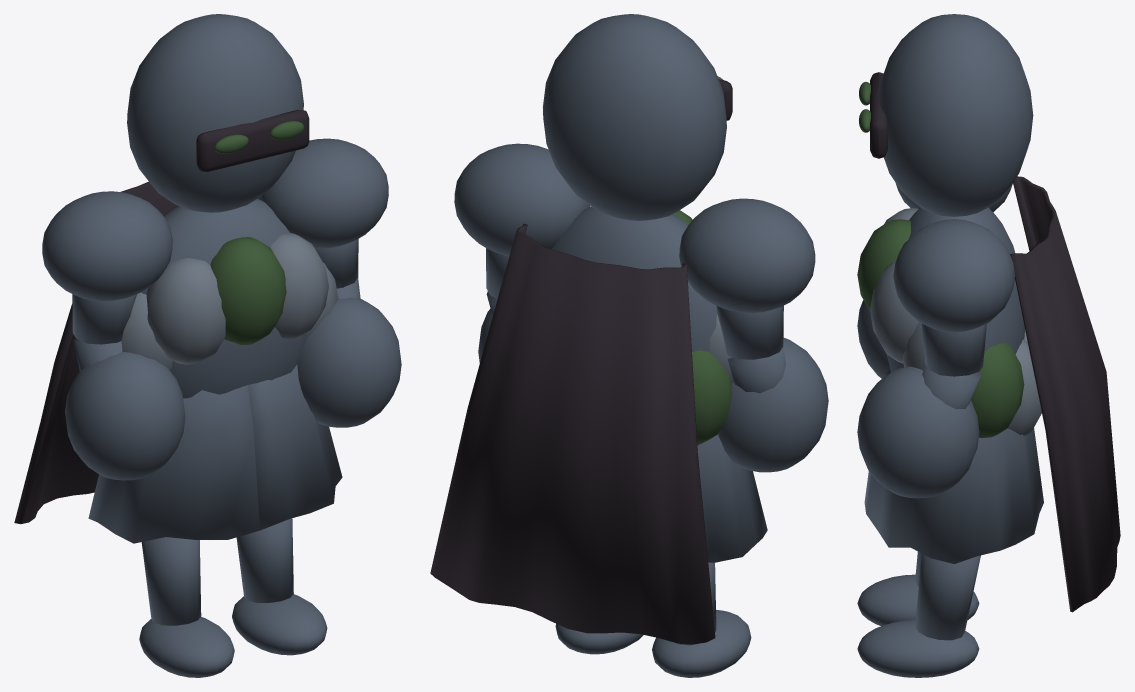
File: enemy-2-refined-v15.fbx
3 renders of one model, left to right at view 1: azimuth 30°, elevation 25°; view 2: azimuth 150°, elevation 25°; view 3: azimuth 270°, elevation 25°, orthographic. The views are drawn at different scales.
Parts seen in each view (by area): view 1: Tabard, Helmet, StoneFist, Shoulder.002, StoneFist.001, Shoulder.003, ArmoredTorso, TatteredCape, MossyArmorRock.008, MossyArmorRock, Shin.002, Foot.004 (+8 smaller); view 2: TatteredCape, Helmet, Shoulder.002, Shoulder.003, StoneFist, ArmoredTorso, Tabard, Foot.004, UpperArm.002, MossyArmorRock.006, Forearm.004, Foot.005 (+2 smaller); view 3: TatteredCape, Helmet, Tabard, StoneFist.001, Shoulder.003, Foot.005, Shin.003, MossyArmorRock.003, ArmoredTorso, UpperArm.003, MossyArmorRock.001, Foot.004 (+6 smaller).
Part boxes in pixels (box(x1,y1,x2,y2)): Tabard: box(88, 364, 342, 543); Helmet: box(127, 14, 303, 212); StoneFist: box(65, 352, 185, 480); Shoulder.002: box(42, 191, 172, 301); StoneFist.001: box(297, 297, 401, 427); Shoulder.003: box(258, 138, 388, 248); ArmoredTorso: box(141, 198, 306, 398); TatteredCape: box(14, 181, 258, 524); MossyArmorRock.008: box(146, 258, 225, 364); MossyArmorRock: box(210, 237, 286, 345); Shin.002: box(141, 537, 201, 625); Foot.004: box(139, 616, 234, 677); TatteredCape: box(430, 223, 715, 644); Helmet: box(542, 14, 726, 220); Shoulder.002: box(679, 198, 815, 312); Shoulder.003: box(454, 143, 590, 256); StoneFist: box(718, 338, 828, 472); ArmoredTorso: box(551, 206, 717, 351); Tabard: box(697, 434, 767, 562); Foot.004: box(652, 609, 751, 677); UpperArm.002: box(716, 305, 783, 359); MossyArmorRock.006: box(692, 350, 731, 445); Forearm.004: box(727, 347, 785, 393); Foot.005: box(555, 623, 643, 654); TatteredCape: box(1010, 176, 1120, 612); Helmet: box(877, 14, 1033, 216); Tabard: box(864, 366, 1043, 563); StoneFist.001: box(857, 366, 979, 498); Shoulder.003: box(893, 219, 1015, 332); Foot.005: box(857, 620, 979, 677); Shin.003: box(915, 554, 980, 640); MossyArmorRock.003: box(971, 343, 1024, 438); ArmoredTorso: box(886, 207, 1024, 372); UpperArm.003: box(921, 323, 986, 376); MossyArmorRock.001: box(870, 260, 918, 363); Foot.004: box(857, 574, 979, 625).
Size of the model in its own units: 108 by 193 by 73.32.
